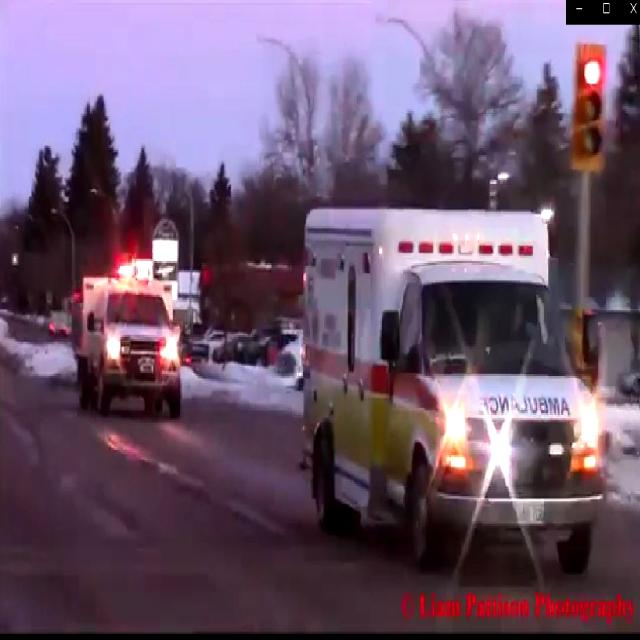emergency: (298, 191, 603, 559), (71, 253, 186, 419)
